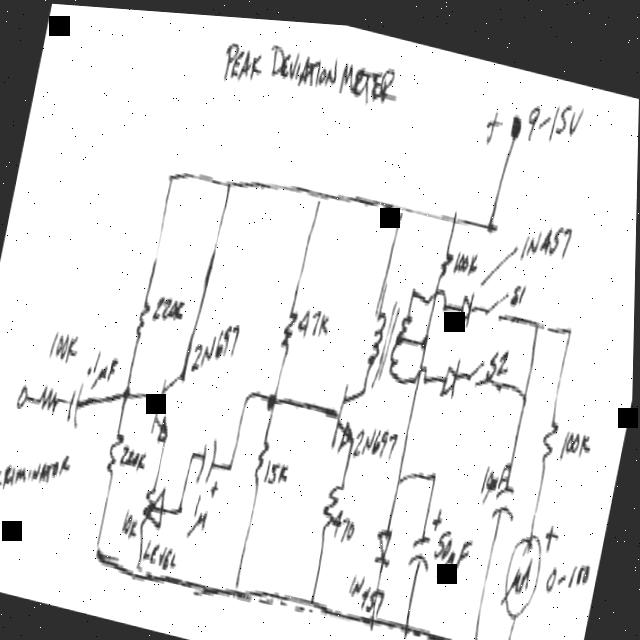capacitor: (185, 401, 236, 504), (481, 445, 531, 537), (401, 504, 442, 599), (64, 371, 91, 434)
diode: (362, 503, 407, 583), (430, 339, 471, 402), (454, 278, 484, 336)
inductor: (360, 286, 396, 389), (384, 284, 418, 383)
resistor: (90, 407, 140, 508), (529, 387, 569, 485), (270, 285, 309, 383), (245, 404, 282, 507), (316, 457, 353, 548), (125, 265, 159, 359), (32, 372, 66, 431), (432, 224, 459, 292), (138, 470, 163, 534)
switch: (480, 265, 527, 337), (462, 338, 502, 404)
transistor: (319, 347, 390, 474), (141, 345, 201, 464)
